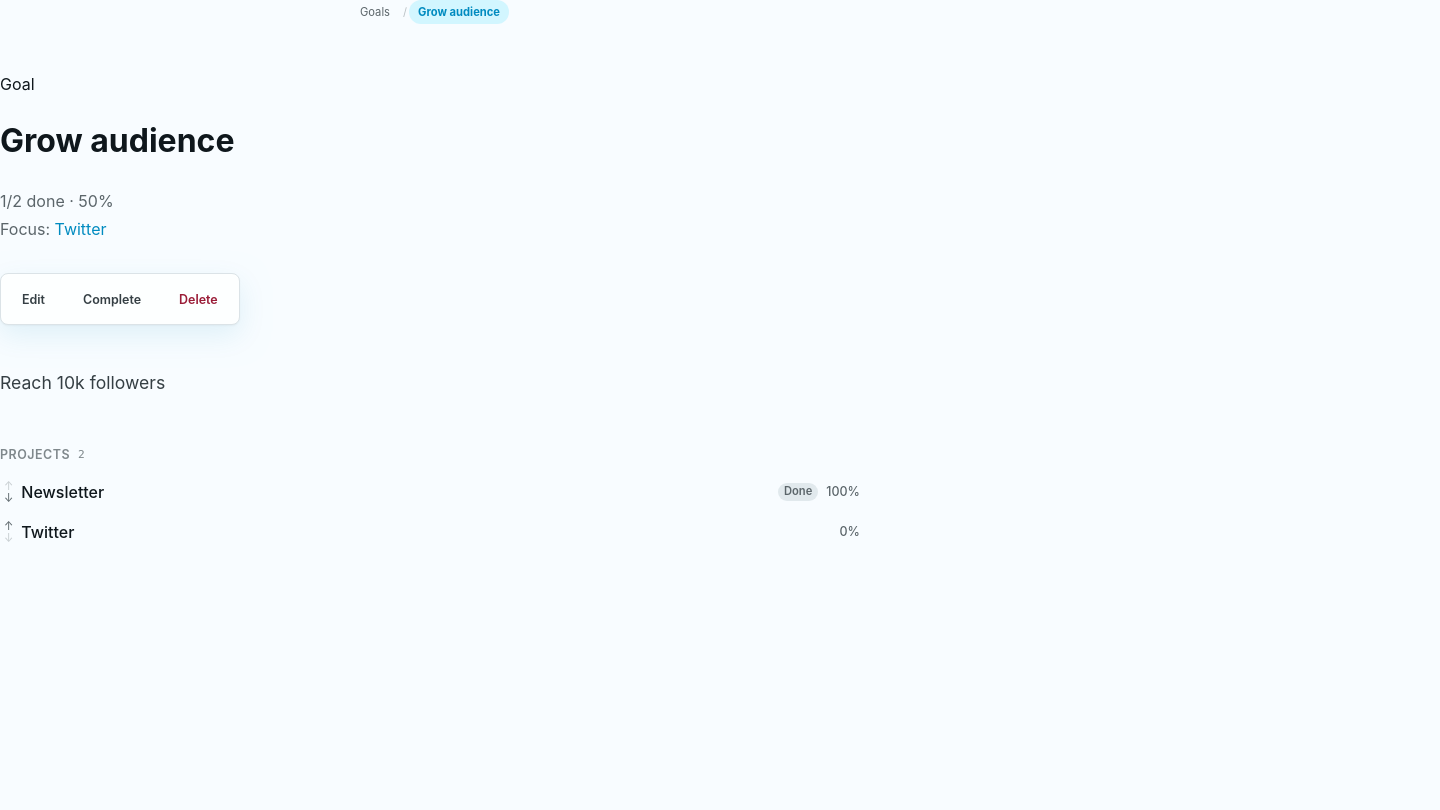
Test: GoalDetailPage — delete confirm copy (§C) › the delete dialog states the re-parenting outcome (N children)
The width and height of the screenshot is (1440, 810).
Click the button "Delete" at (198, 299), box x1=164 y1=280 x2=233 y2=318
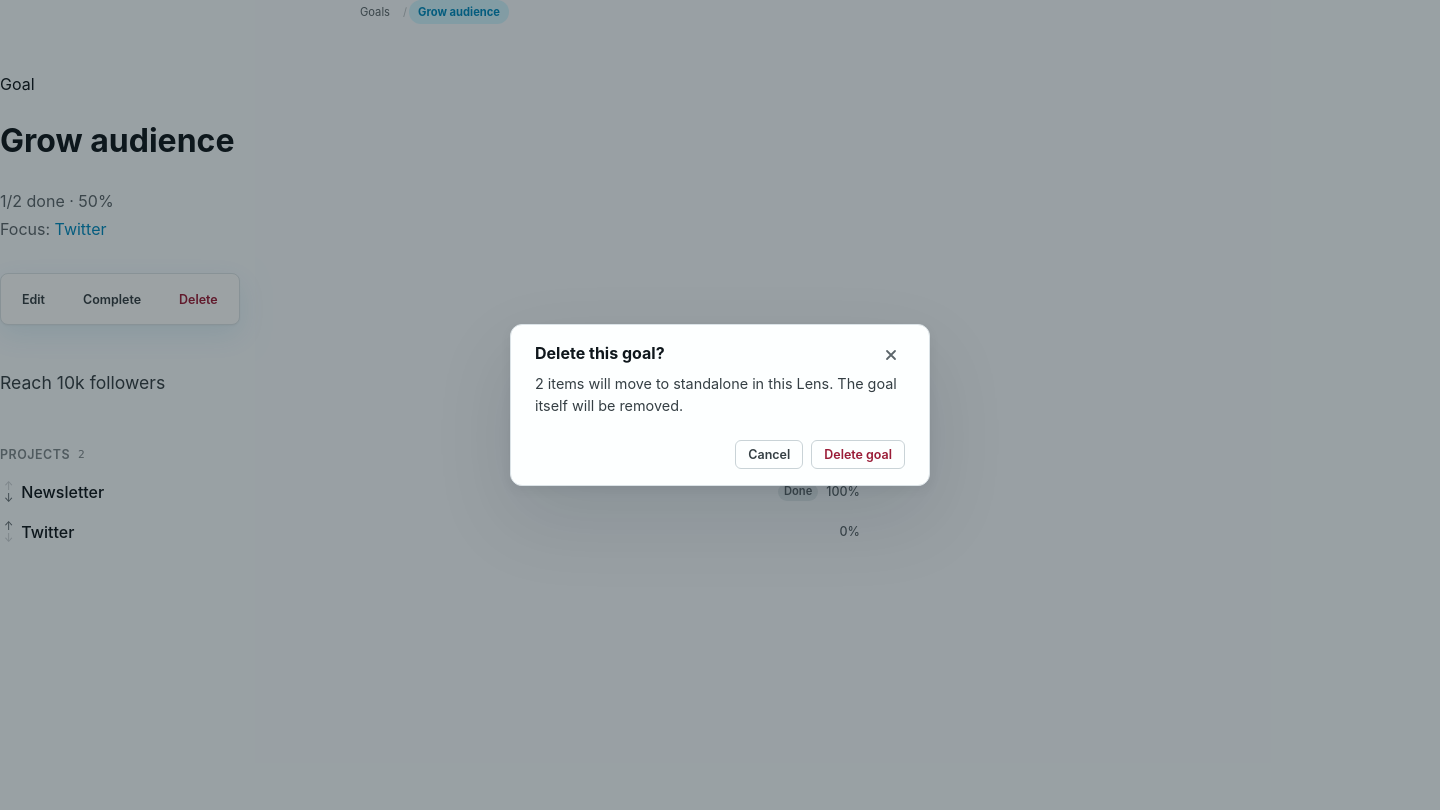
Now the dialog "Delete this goal" shows "2 items will move to standalone", box x1=535 y1=375 x2=897 y2=414
